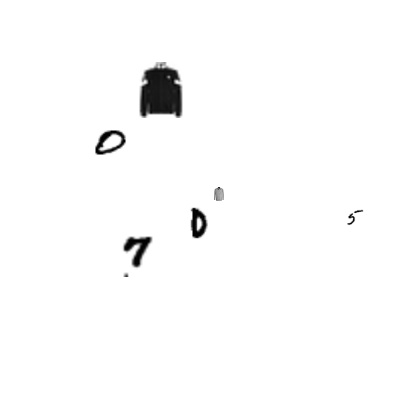0: (176, 202, 218, 244), (88, 120, 130, 162)
5: (342, 205, 364, 227)
7: (108, 221, 164, 277)
Coat: (132, 62, 188, 118)
Shirt: (212, 187, 226, 201)
